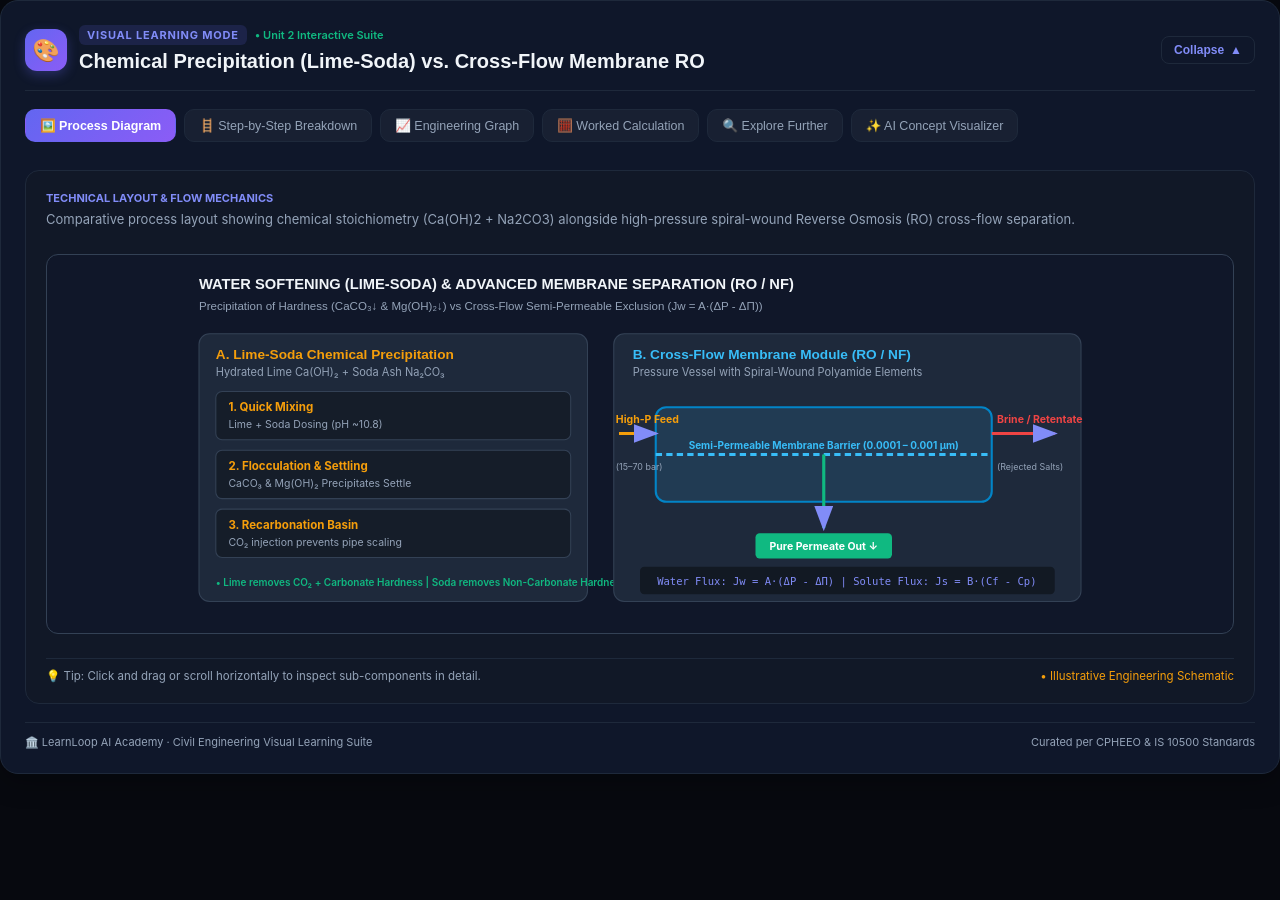
Test: Visual Learning Mode for Unit 2 (Water Treatment Units) › AI Concept Visualizer displays action button and engineering disclaimer
The width and height of the screenshot is (1280, 900).
Click the tab "✨ AI Concept Visualizer" at coordinates (935, 126), box left=851, top=109, right=1018, bottom=142
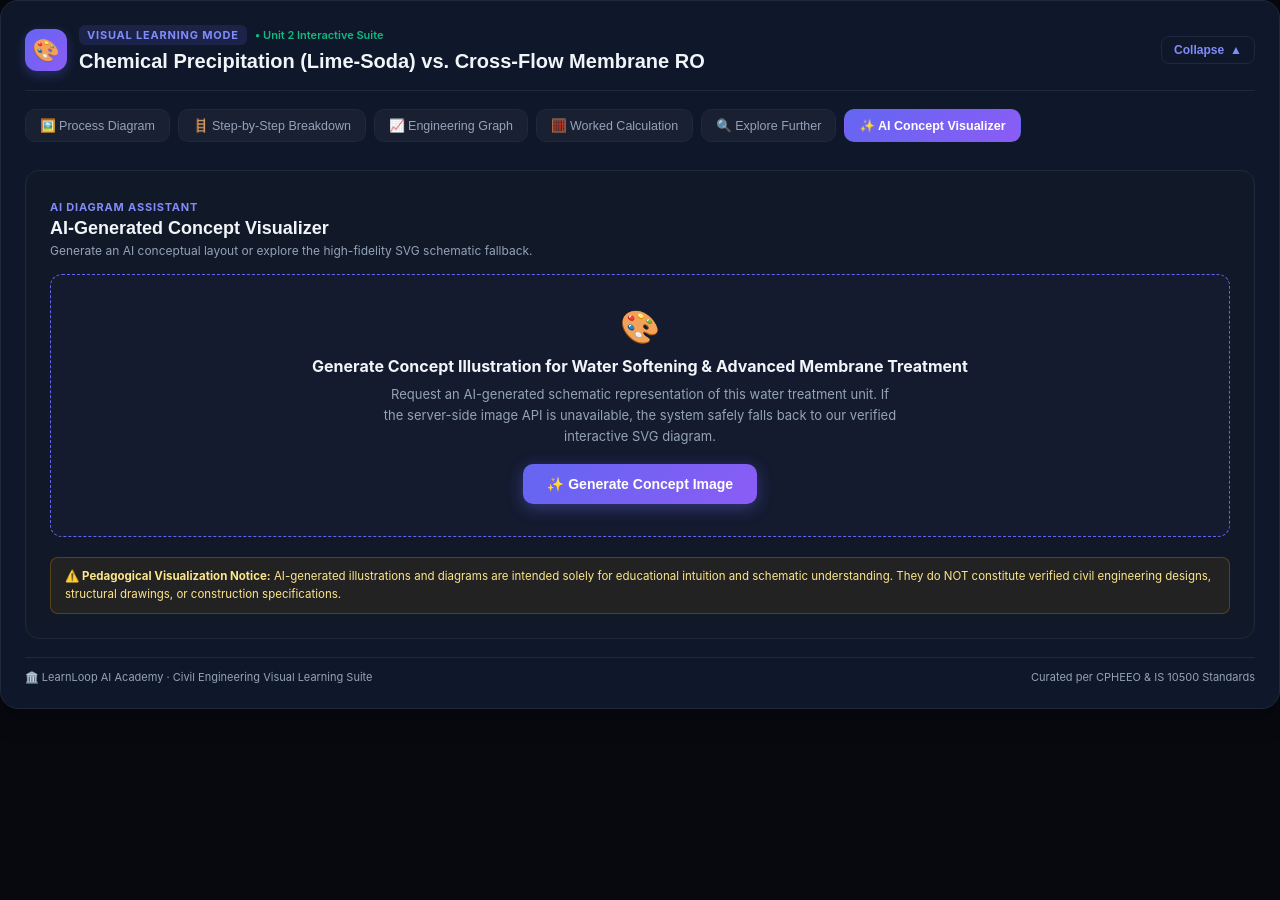
expect the button "✨ Generate Concept Image" is shown: met, box left=523, top=464, right=757, bottom=504
expect the text "⚠️ Pedagogical Visualization Notice:" is shown: met, box left=65, top=569, right=271, bottom=583
expect the text "constitute verified civil engineering designs" is shown: met, box left=65, top=569, right=1211, bottom=601
